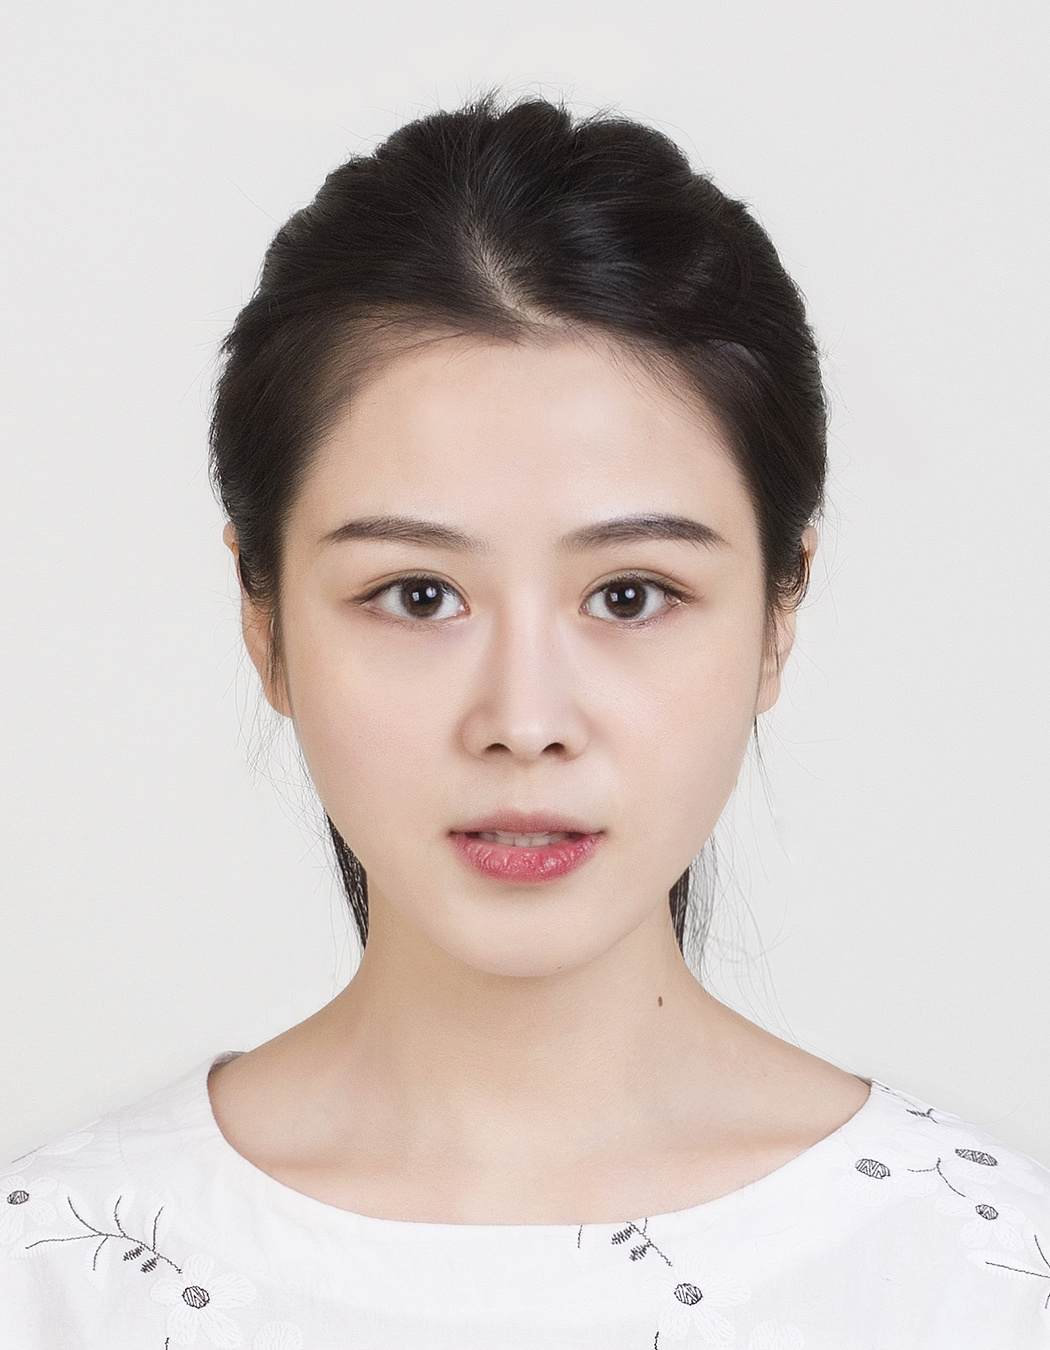unmask: (274, 355, 780, 948)
